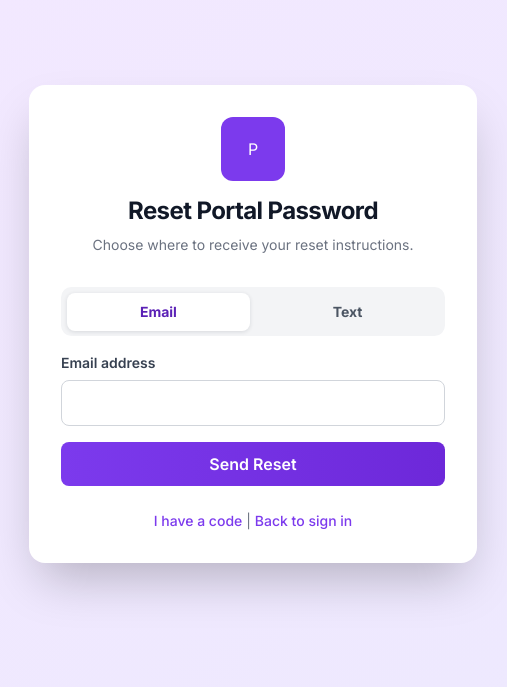
Test: Patient portal pages › requests a patient portal password reset by text message
Click the button "Text" at (348, 312), box [256, 293, 439, 331]
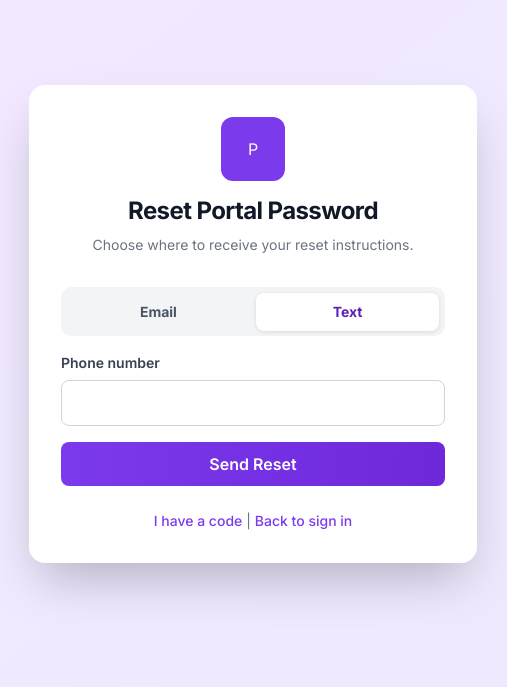
Type "5412318693" into the field labelled "Phone number" at (253, 403), box [61, 380, 445, 426]
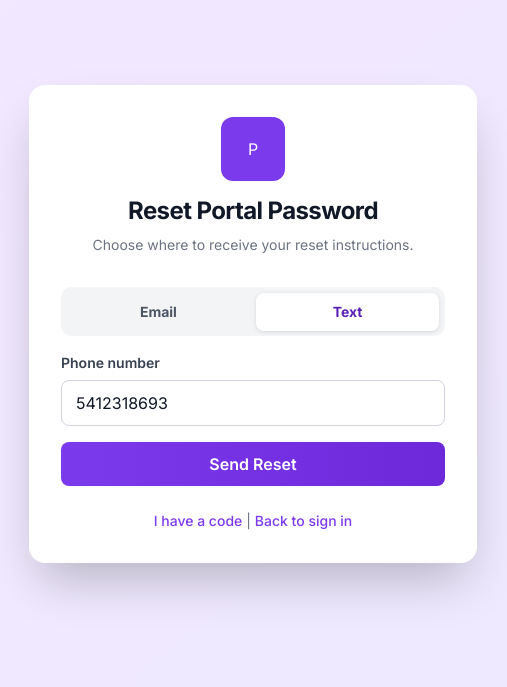
Click the button "Send Reset" at (253, 464), box [61, 442, 445, 486]
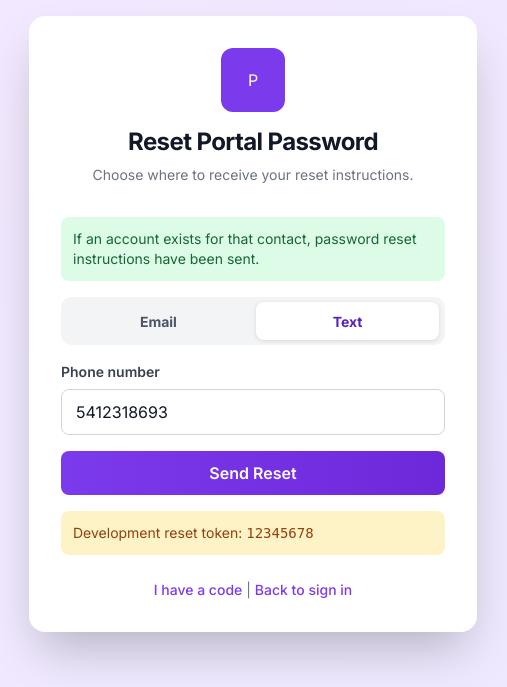
Expected: the text "Development reset token: 12345678" is shown, [61, 511, 445, 556]
Expected: the text "12345678" is shown, [246, 525, 314, 541]
